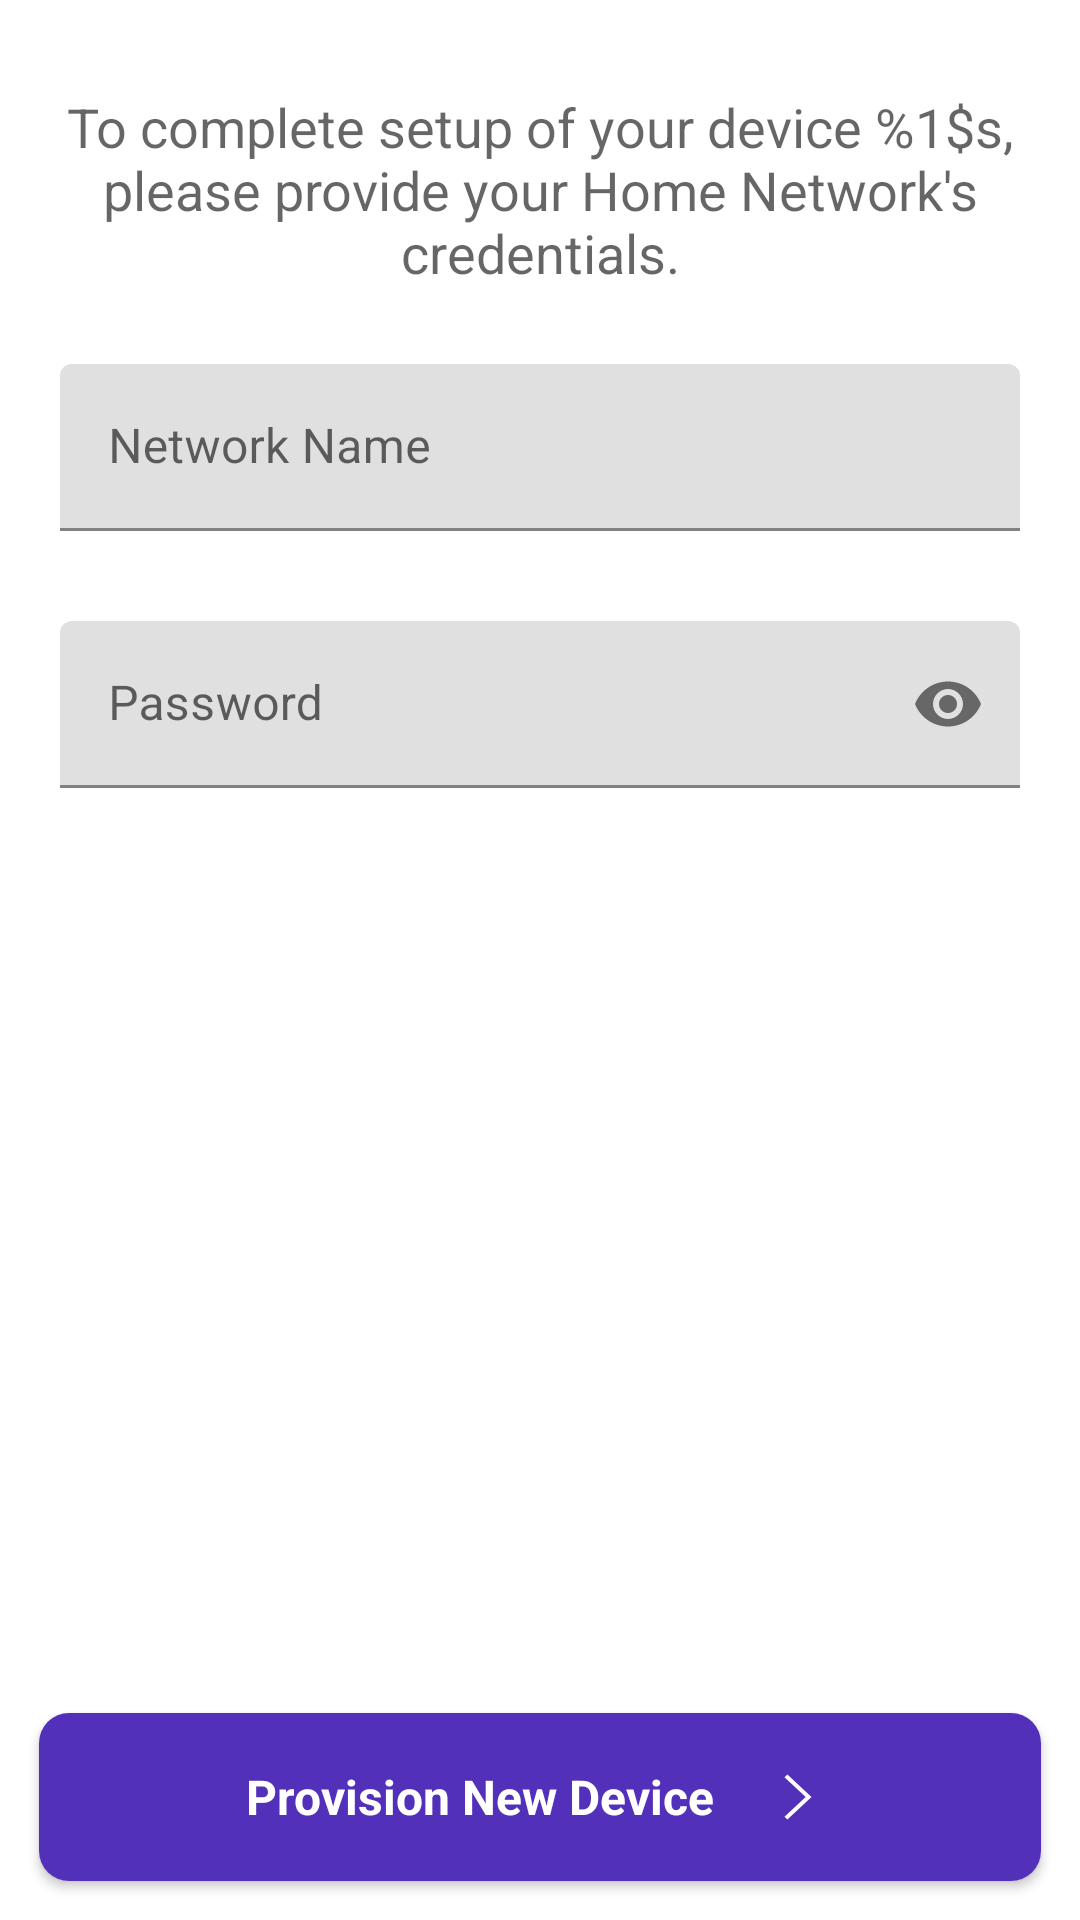

Point at icon controls on the screen. Image size 1080 × 1920, points as [x,y].
right arrow: [797,1797]
